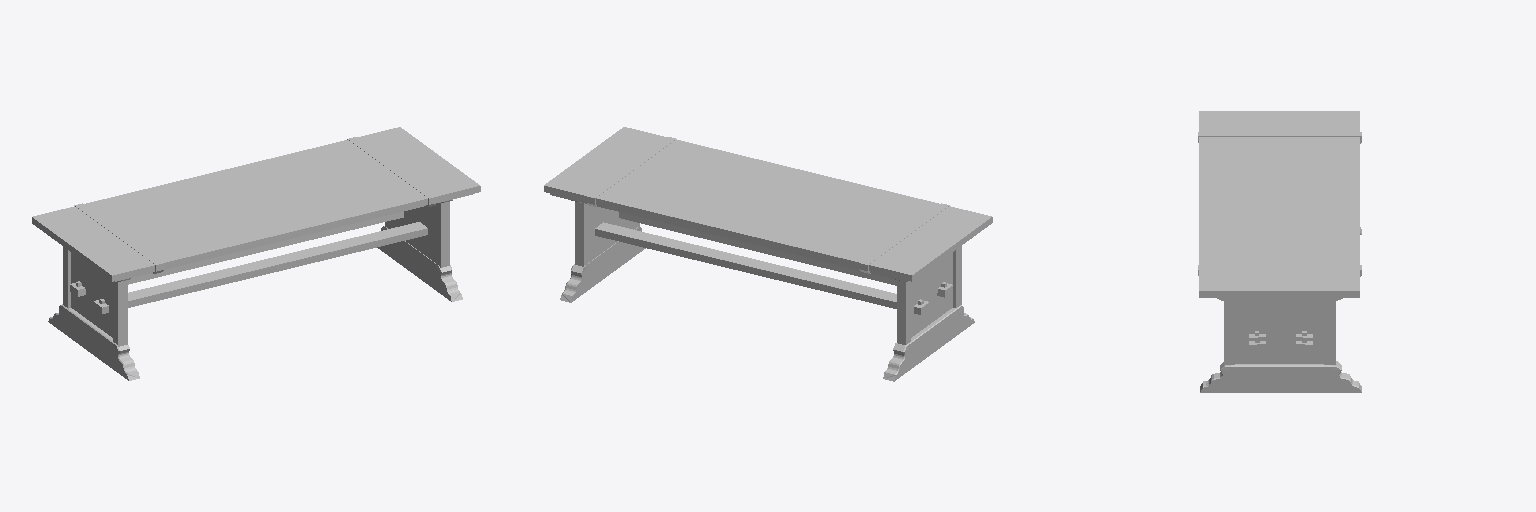
File: Table_Large.obj
3 renders of one model, left to right at view 1: azimuth 30°, elevation 25°; view 2: azimuth 150°, elevation 25°; view 3: azimuth 270°, elevation 25°, orthographic.
Parts seen in each view (by area): view 1: Table_Large_Cube.084; view 2: Table_Large_Cube.084; view 3: Table_Large_Cube.084.
Boxes of the visible parts, box(x1,y1,x2,y2) form: Table_Large_Cube.084: box(32, 127, 480, 380); Table_Large_Cube.084: box(544, 127, 992, 381); Table_Large_Cube.084: box(1198, 111, 1361, 392).
Bounding box in the file's own units: 2.85 × 0.8134 × 1.1.